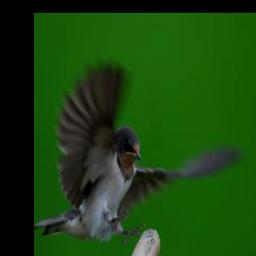Swallow: (37, 57, 241, 244)
